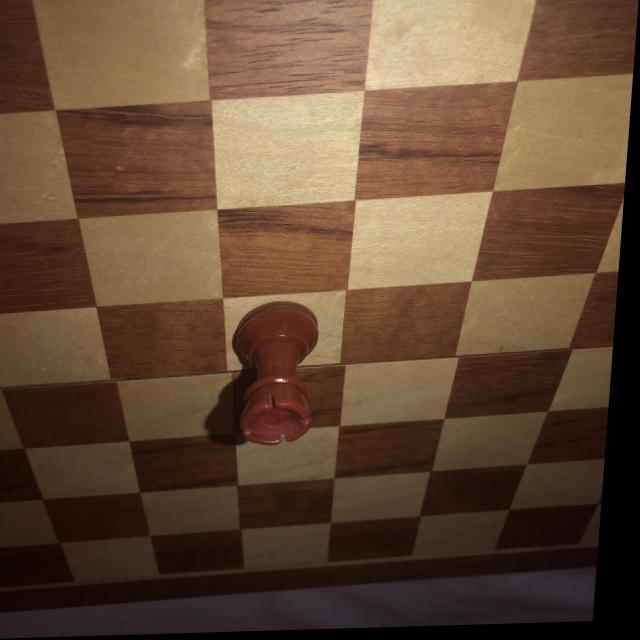black_rook: (234, 304, 328, 451)
